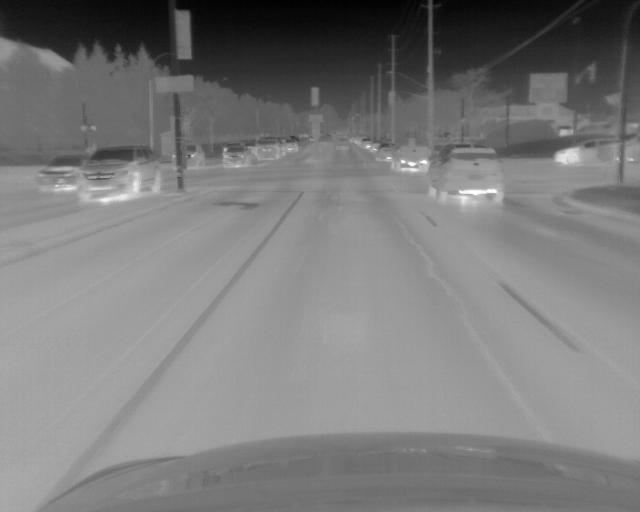car: (427, 145, 506, 204), (80, 145, 162, 201), (35, 154, 81, 193), (552, 137, 614, 163), (393, 143, 431, 173), (599, 136, 640, 163), (173, 143, 206, 169), (221, 145, 249, 168), (257, 138, 280, 160), (375, 143, 394, 160), (284, 139, 297, 154), (360, 138, 369, 149)
